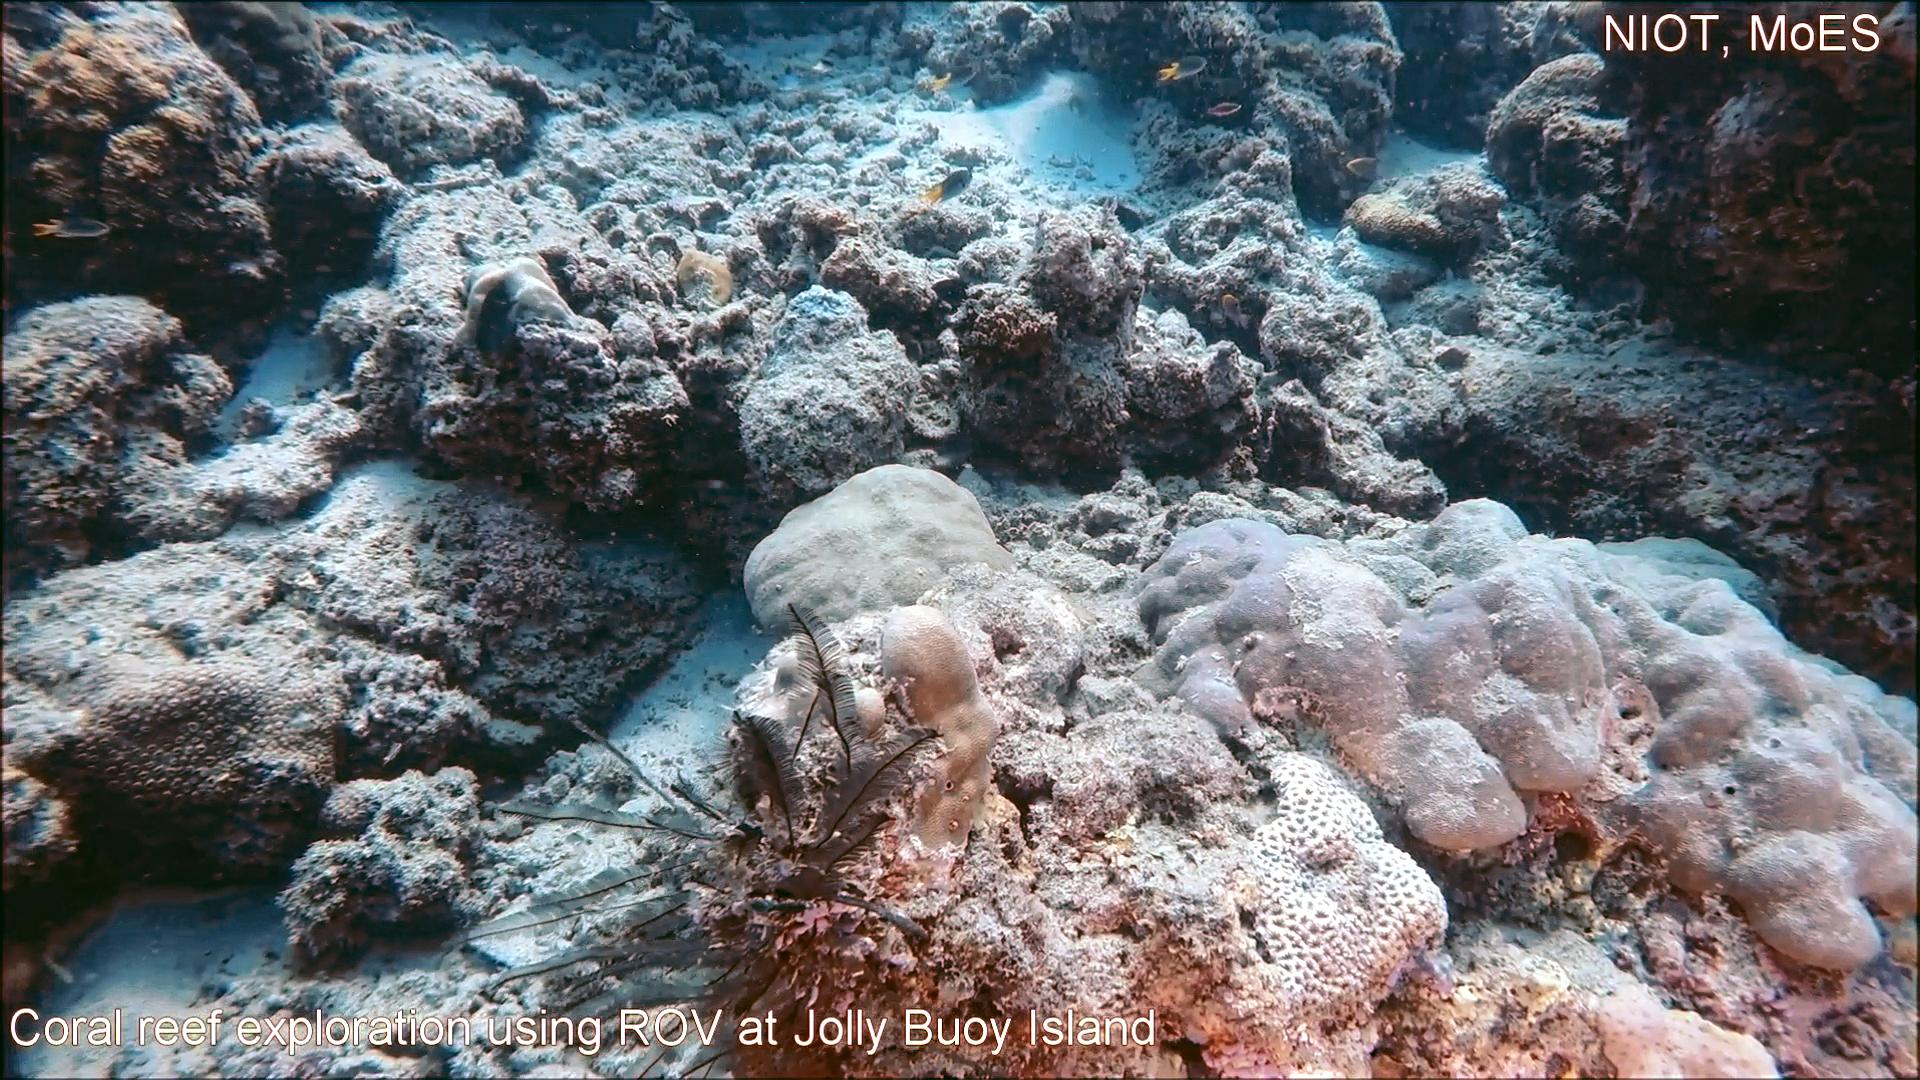Feather star-Crinoid star: (429, 591, 945, 1080)
Goniastrea-Goniastrea pectinata: (1222, 744, 1456, 1031)
Turbinaria-Turbinaria stellulata: (1490, 483, 1920, 977), (40, 657, 294, 816)
